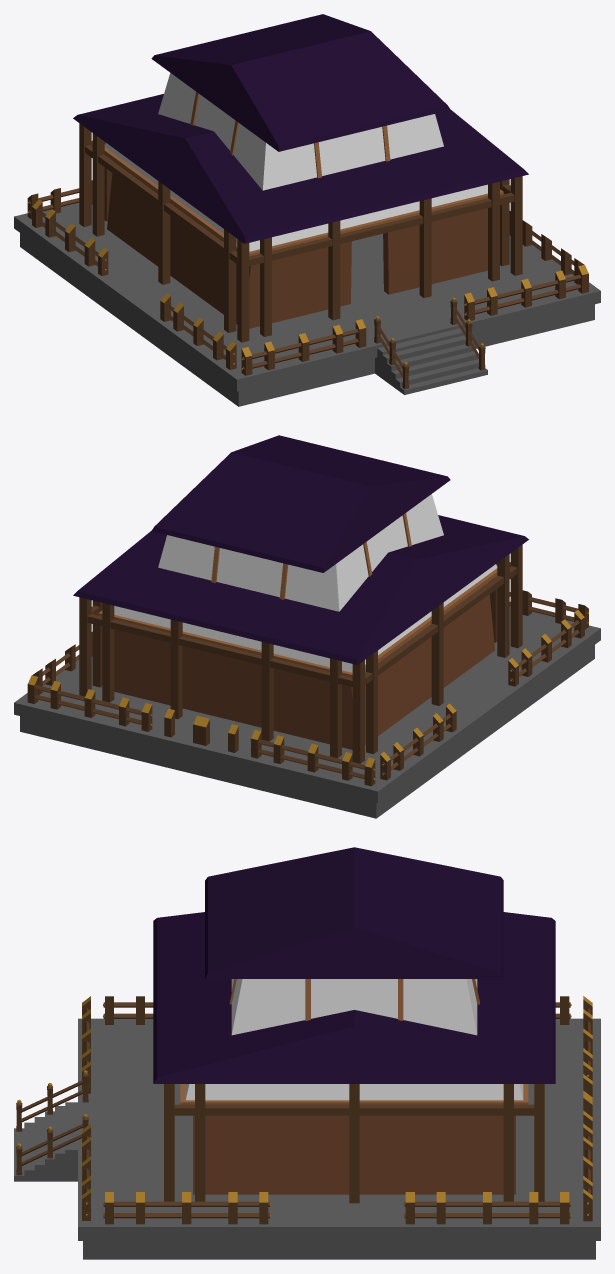
File: Dojo.fbx
3 renders of one model, top to bottom at view 1: azimuth 30°, elevation 25°; view 2: azimuth 150°, elevation 25°; view 3: azimuth 270°, elevation 25°, orthographic. The views are drawn at different scales.
Parts seen in each view (by area): view 1: DojoBuilding, DojoFrame; view 2: DojoBuilding, DojoFrame; view 3: DojoBuilding, DojoFrame.
Part boxes in pixels (x1,y1,x2,y2): DojoBuilding: (73,14,528,328); DojoFrame: (14,123,600,406); DojoBuilding: (73,435,528,749); DojoFrame: (14,544,600,818); DojoBuilding: (153,847,555,1194); DojoFrame: (14,996,600,1259).
Bounding box in the file's own units: 3196 × 1935 × 3805.
